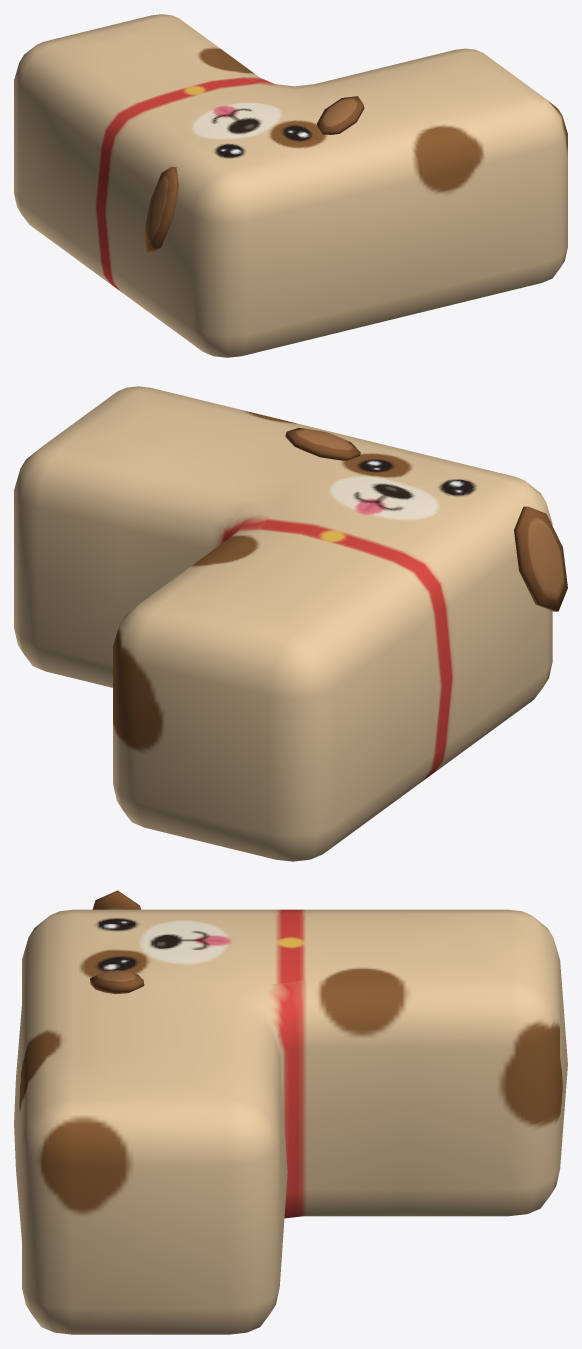
The model's file is Dog_CornerMirror.fbx.
3 views of the same model, one above another, from view 1: azimuth 30°, elevation 25°; view 2: azimuth 150°, elevation 25°; view 3: azimuth 270°, elevation 25° (orthographic). The views are drawn at different scales.
Parts seen in each view (by area): view 1: Dog_CornerMirror; view 2: Dog_CornerMirror; view 3: Dog_CornerMirror.
Part boxes in pixels (x1=…): Dog_CornerMirror: x1=14, y1=14, x2=567, y2=357; Dog_CornerMirror: x1=14, y1=386, x2=567, y2=861; Dog_CornerMirror: x1=14, y1=890, x2=567, y2=1334.
Bounding box in the file's own units: 2.09 × 0.9674 × 1.98.
1 material, 1 textured.
